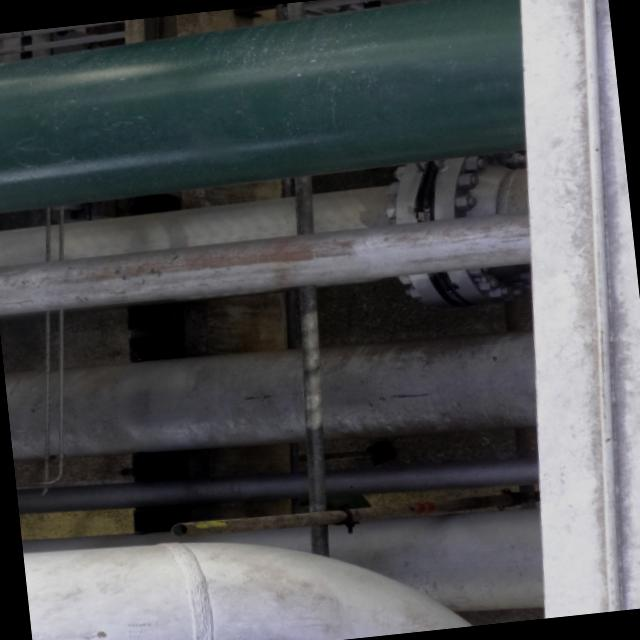gas: (0, 2, 526, 210), (4, 321, 546, 463), (0, 151, 535, 268), (0, 210, 528, 316), (22, 505, 436, 640), (16, 457, 537, 508), (438, 512, 548, 608)
